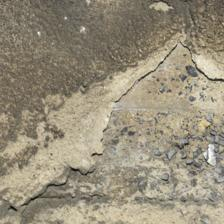Crack: (101, 41, 181, 149), (8, 153, 104, 211), (181, 41, 223, 83)
